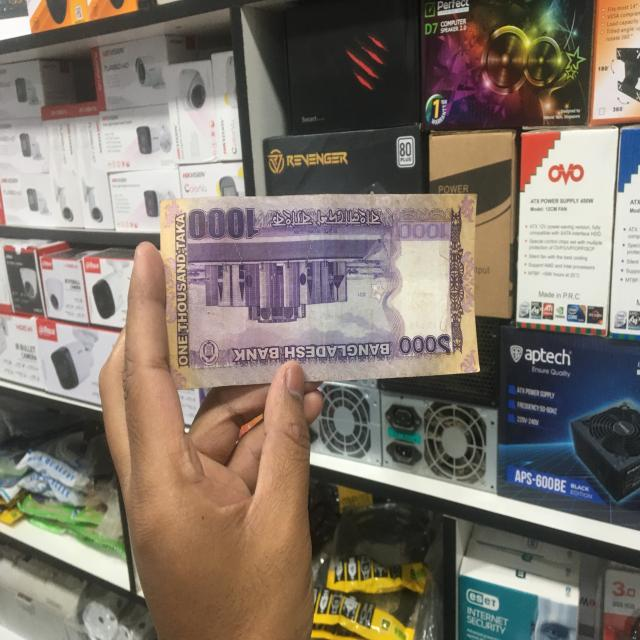Taka: (159, 196, 481, 377)
